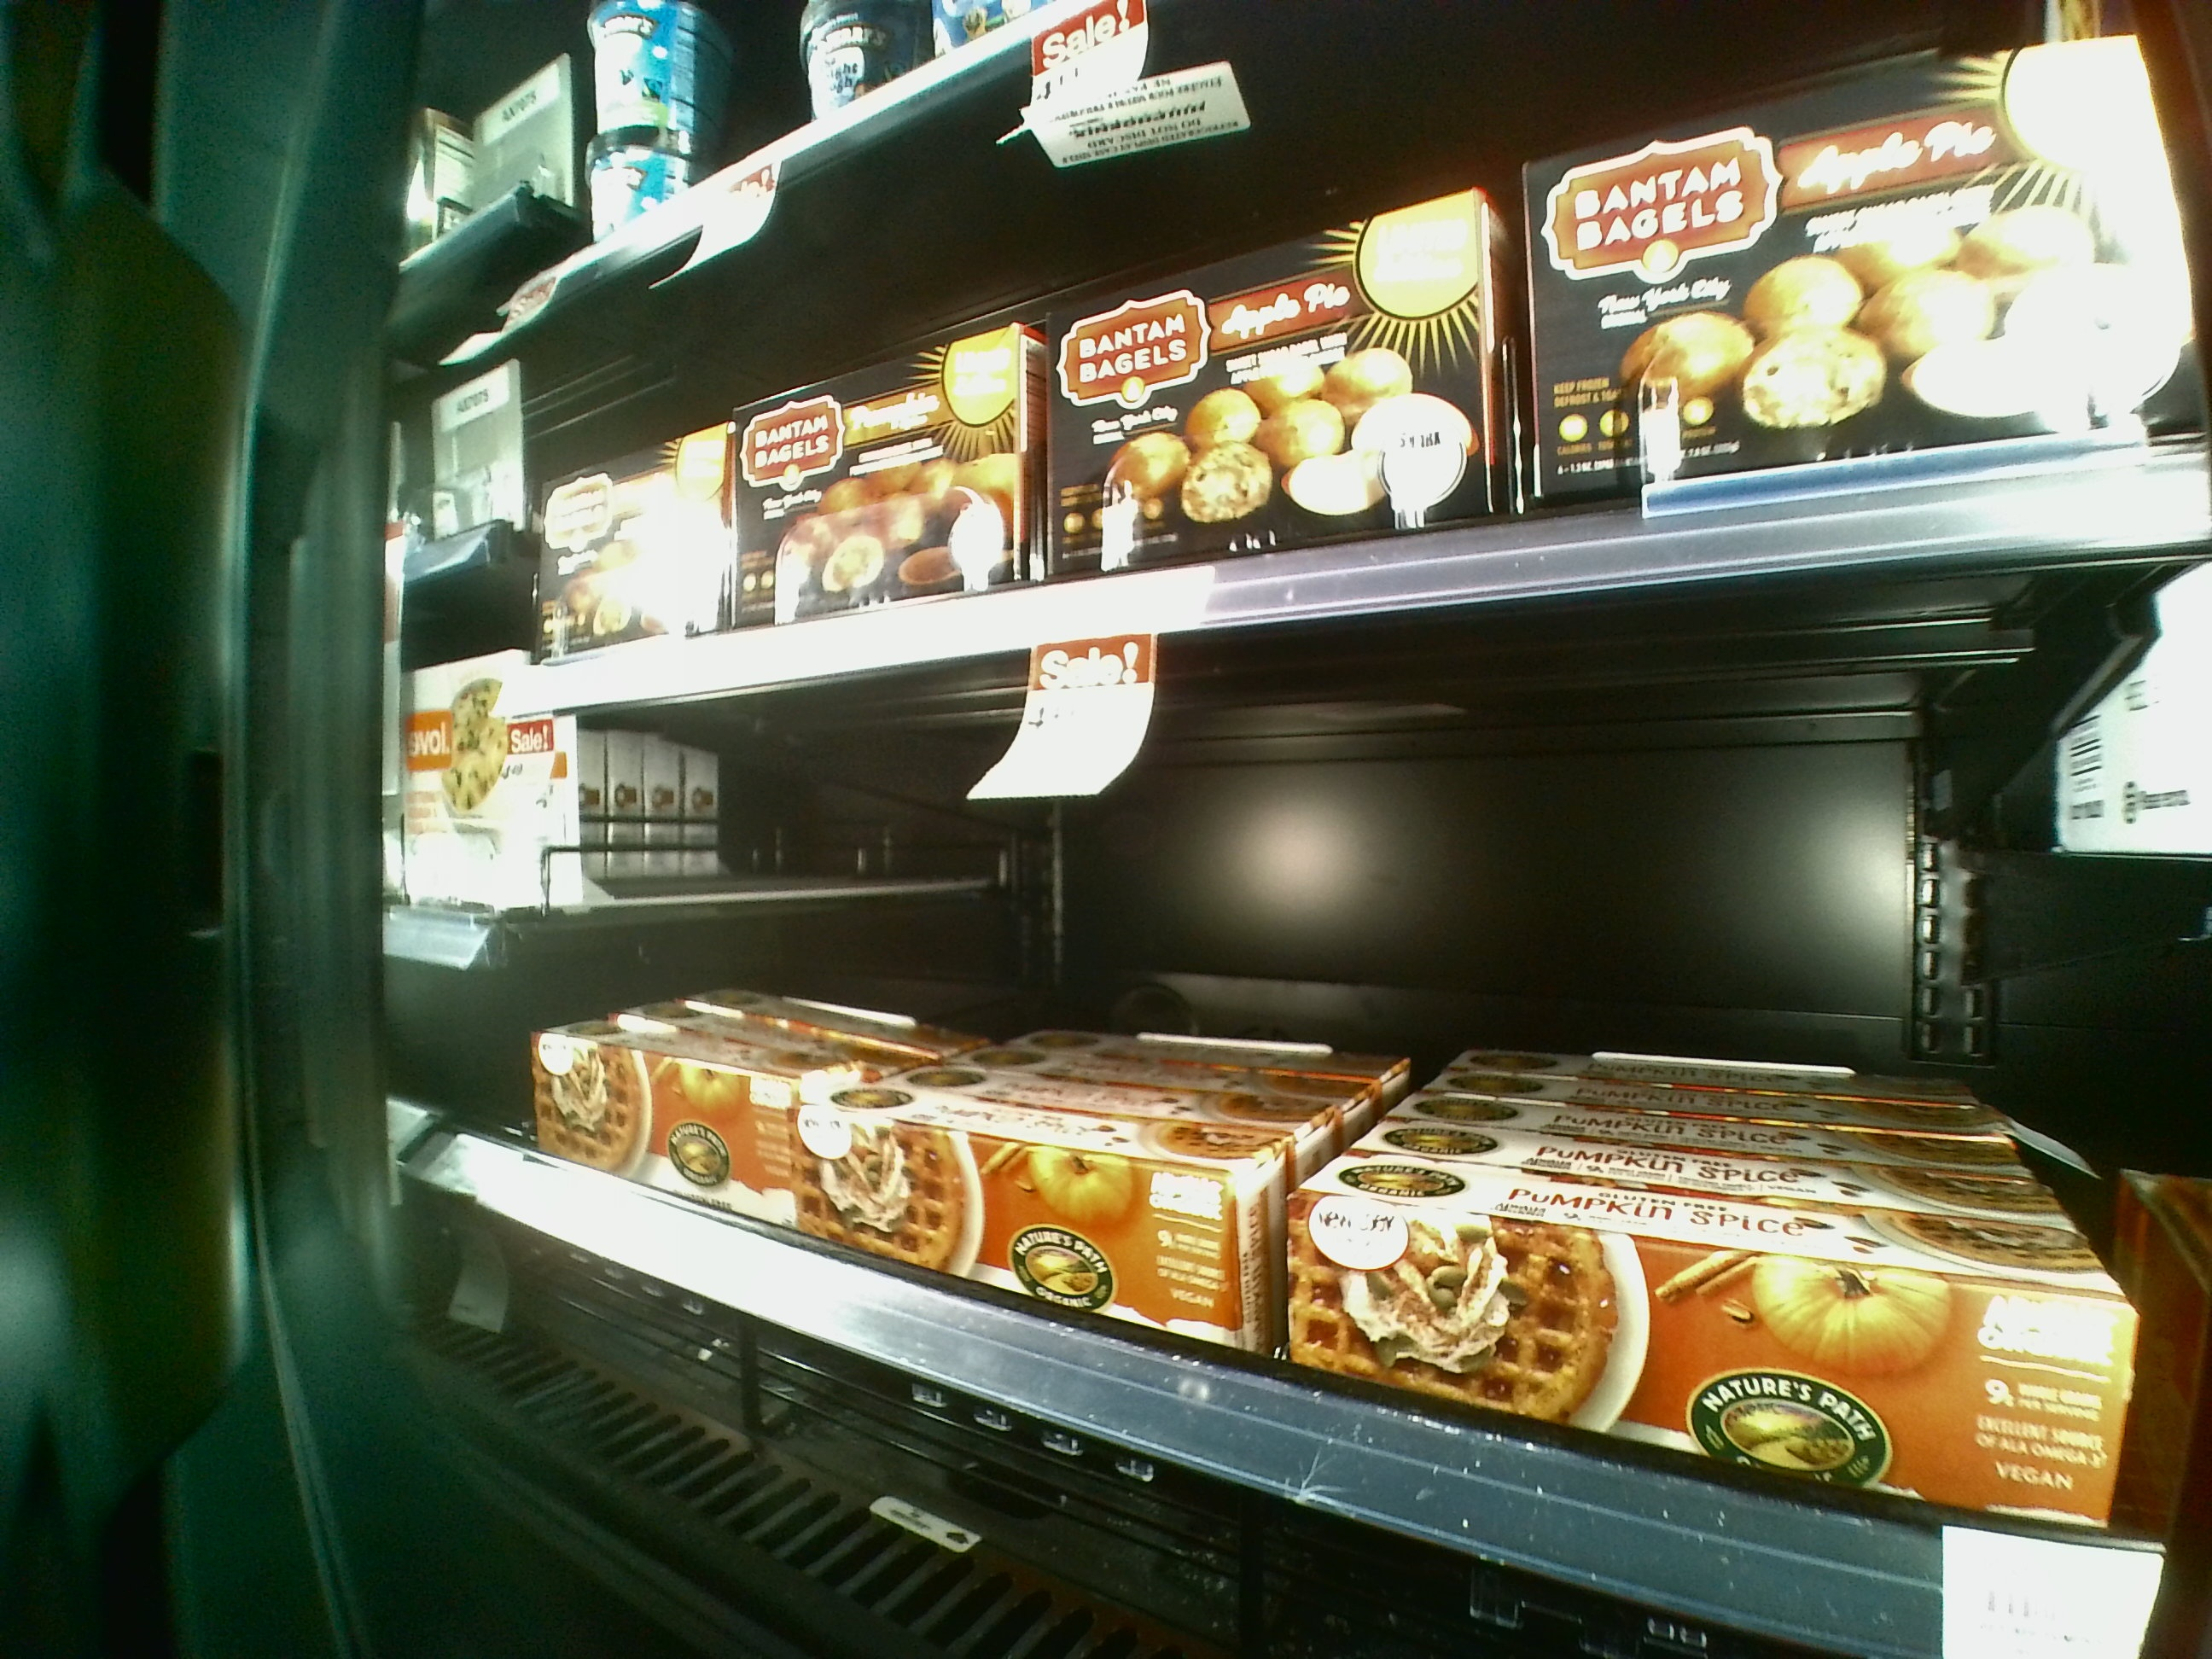shelf: (510, 652, 2163, 1607), (503, 101, 2212, 565)
